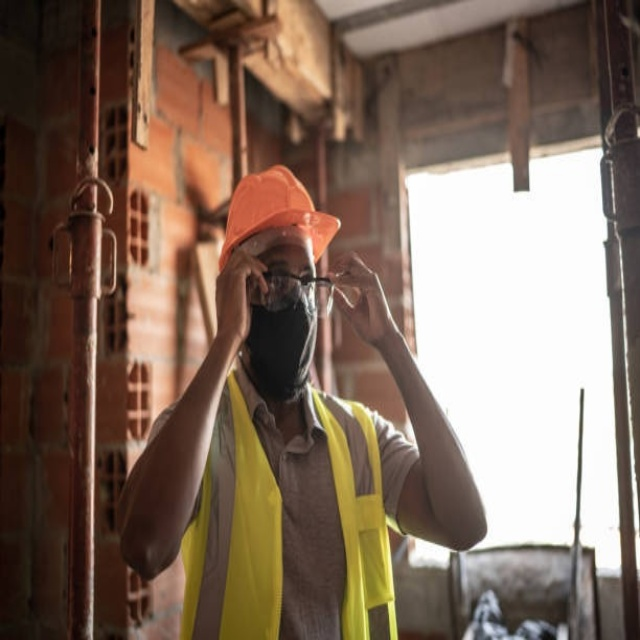Gafas: (253, 267, 329, 318)
Mascara: (243, 287, 318, 398)
Sin_guantes: (329, 252, 393, 346), (218, 243, 269, 348)
